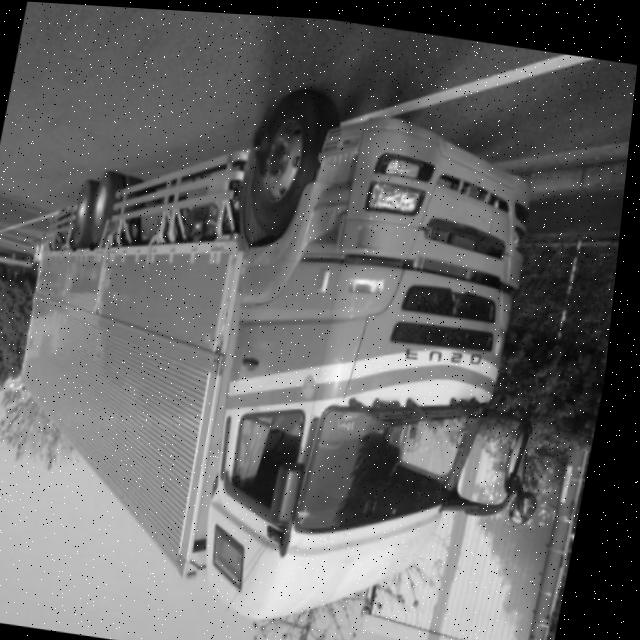truck: (158, 70, 598, 640)
